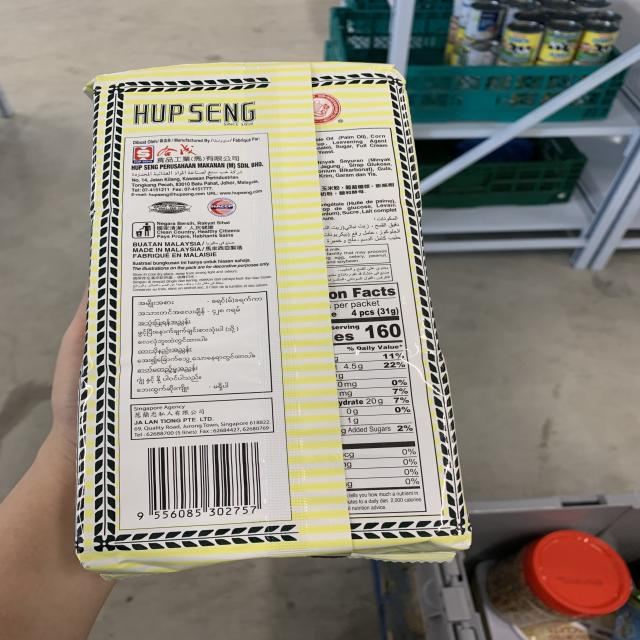object_name: (90, 69, 456, 556)
